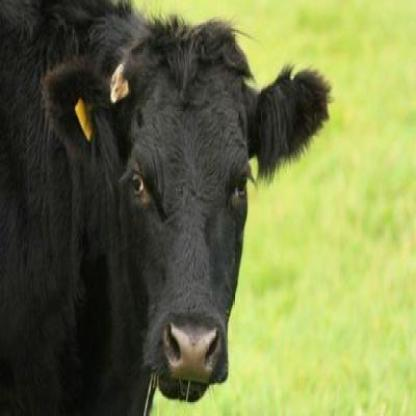lower: (170, 384, 197, 400)
mouth: (145, 308, 230, 403)
upper: (184, 340, 199, 360)
